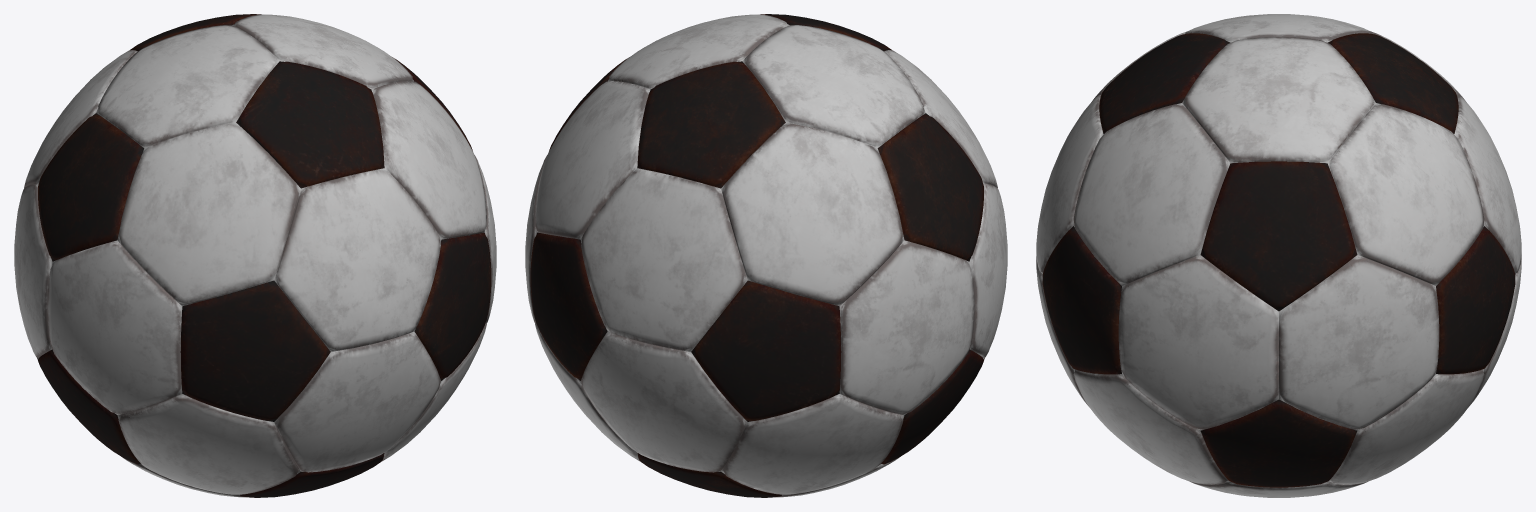
The model's file is football.fbx.
3 views of the same model, side by side, from view 1: azimuth 30°, elevation 25°; view 2: azimuth 150°, elevation 25°; view 3: azimuth 270°, elevation 25° (orthographic).
Visible parts, largest first — view 1: Hedra2; view 2: Hedra2; view 3: Hedra2.
Boxes of the visible parts, left/top/right/bottom form: Hedra2: left=14, top=14, right=496, bottom=497; Hedra2: left=525, top=14, right=1007, bottom=497; Hedra2: left=1036, top=14, right=1521, bottom=497.
Bounding box in the file's own units: 30.18 × 30.18 × 30.18.
Materials: 1 (1 with a texture image).
